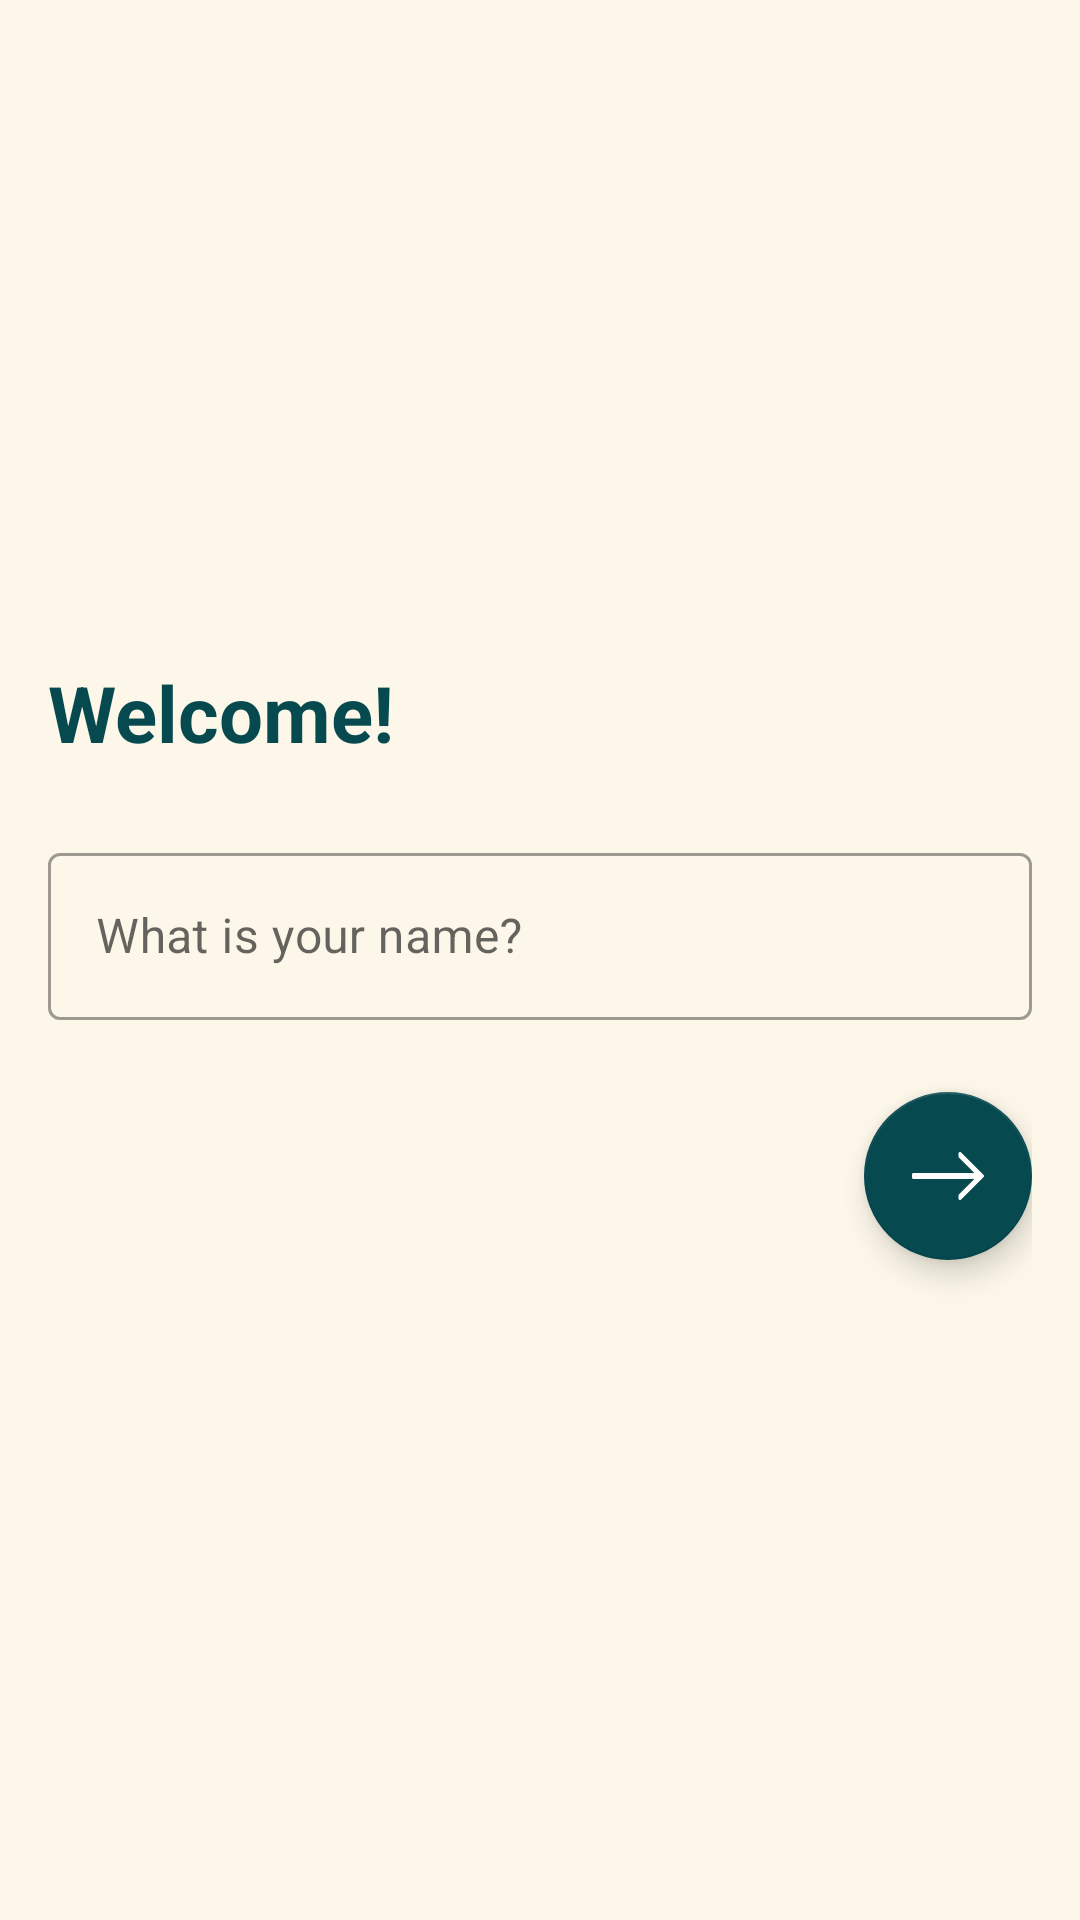

Icon click points for this 1080*1920 phone screenshot, format (x,y):
right arrow: (948,1176)
